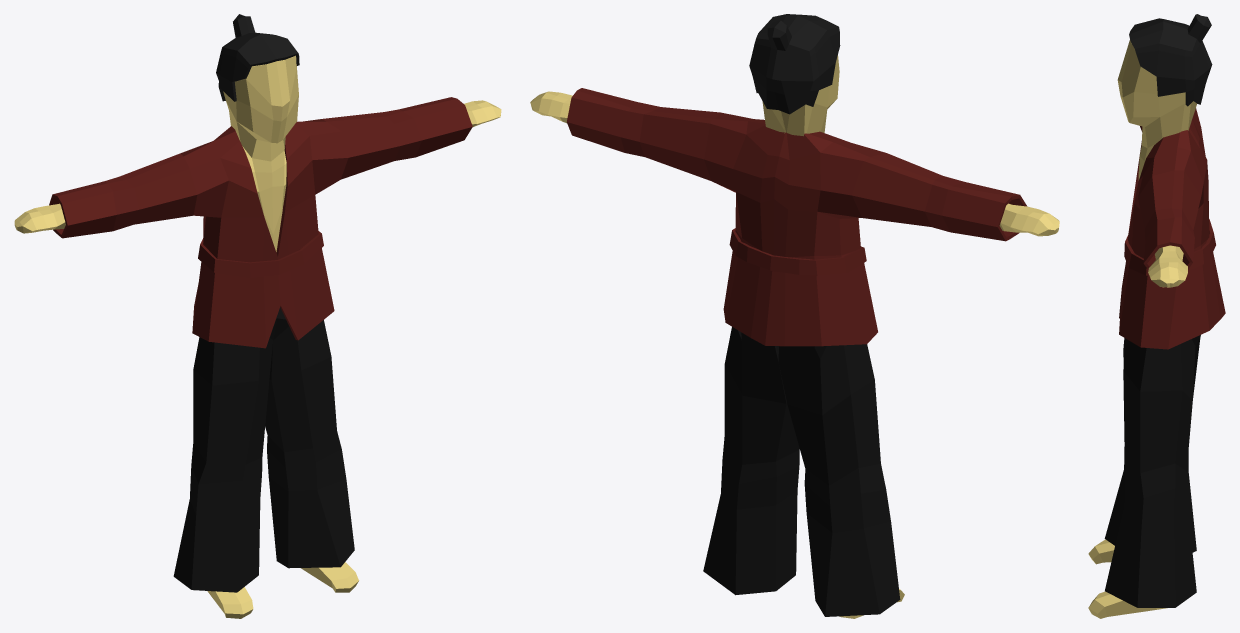
File: CHARACTER player.fbx
3 views of the same model, side by side, from view 1: azimuth 30°, elevation 25°; view 2: azimuth 150°, elevation 25°; view 3: azimuth 270°, elevation 25° (orthographic). The views are drawn at different scales.
Visible parts, largest first — view 1: Cube.001; view 2: Cube.001; view 3: Cube.001.
Boxes of the visible parts, x1,y1,x2,y2 form: Cube.001: [14, 14, 501, 618]; Cube.001: [530, 14, 1059, 618]; Cube.001: [1088, 14, 1225, 618].
Size of the model in its own units: 2350 by 2567 by 559.
